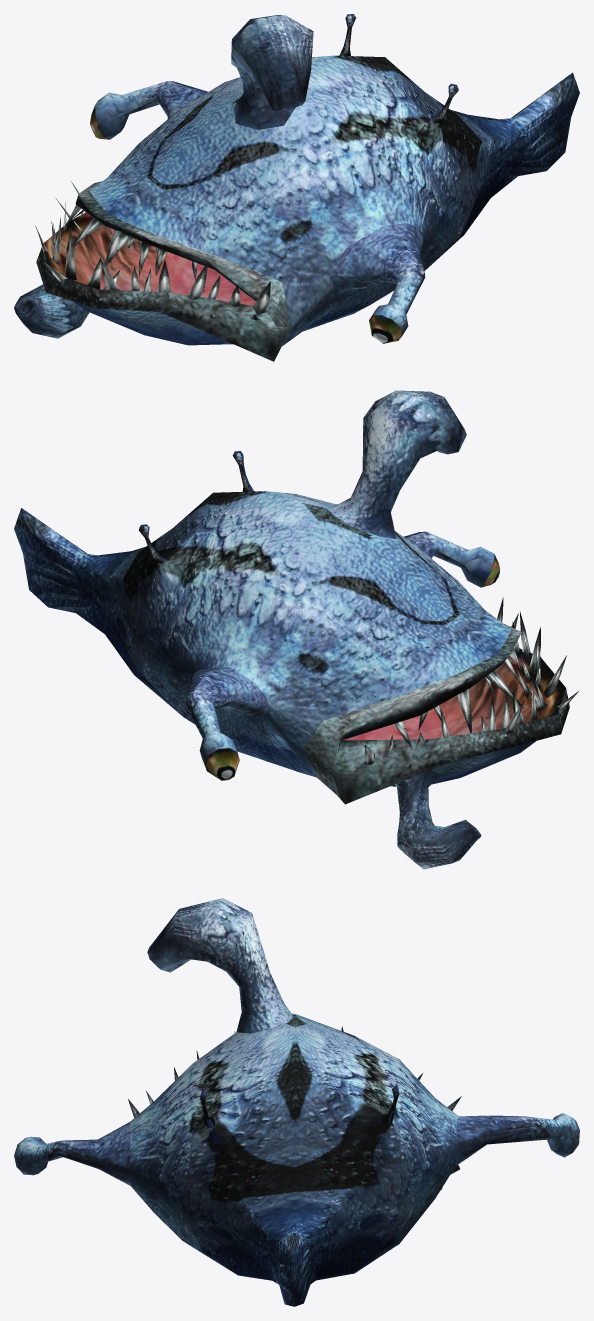
The model's file is bst56a.obj.
3 views of the same model, one above another, from view 1: azimuth 30°, elevation 25°; view 2: azimuth 150°, elevation 25°; view 3: azimuth 270°, elevation 25° (orthographic). The views are drawn at different scales.
Visible parts, largest first — view 1: DEFAULT0; view 2: DEFAULT0; view 3: DEFAULT0.
Part boxes in pixels (x1,y1,x2,y2): DEFAULT0: [14, 14, 579, 361]; DEFAULT0: [14, 390, 578, 869]; DEFAULT0: [14, 898, 579, 1306].
Size of the model in its own units: 901 by 567 by 813.
Materials: 1 (1 with a texture image).
